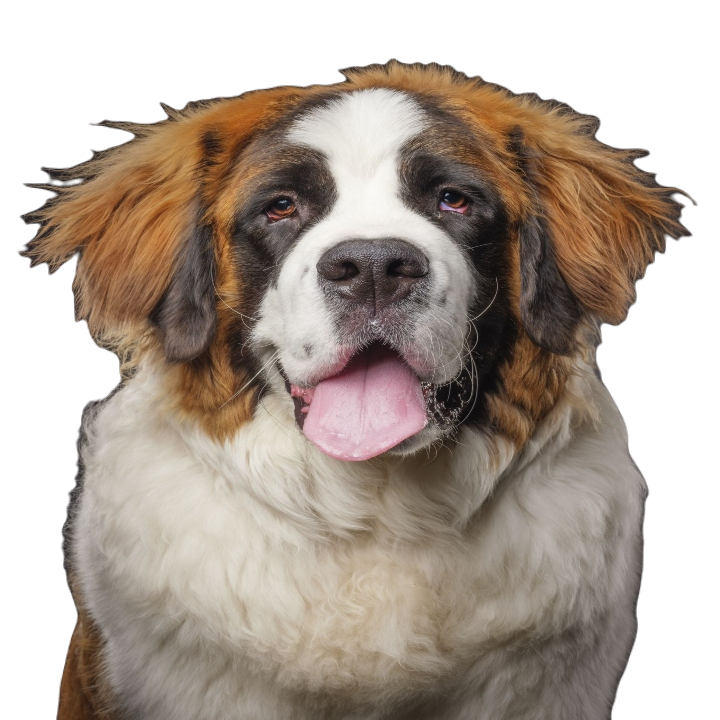Dog: (16, 61, 695, 719)
